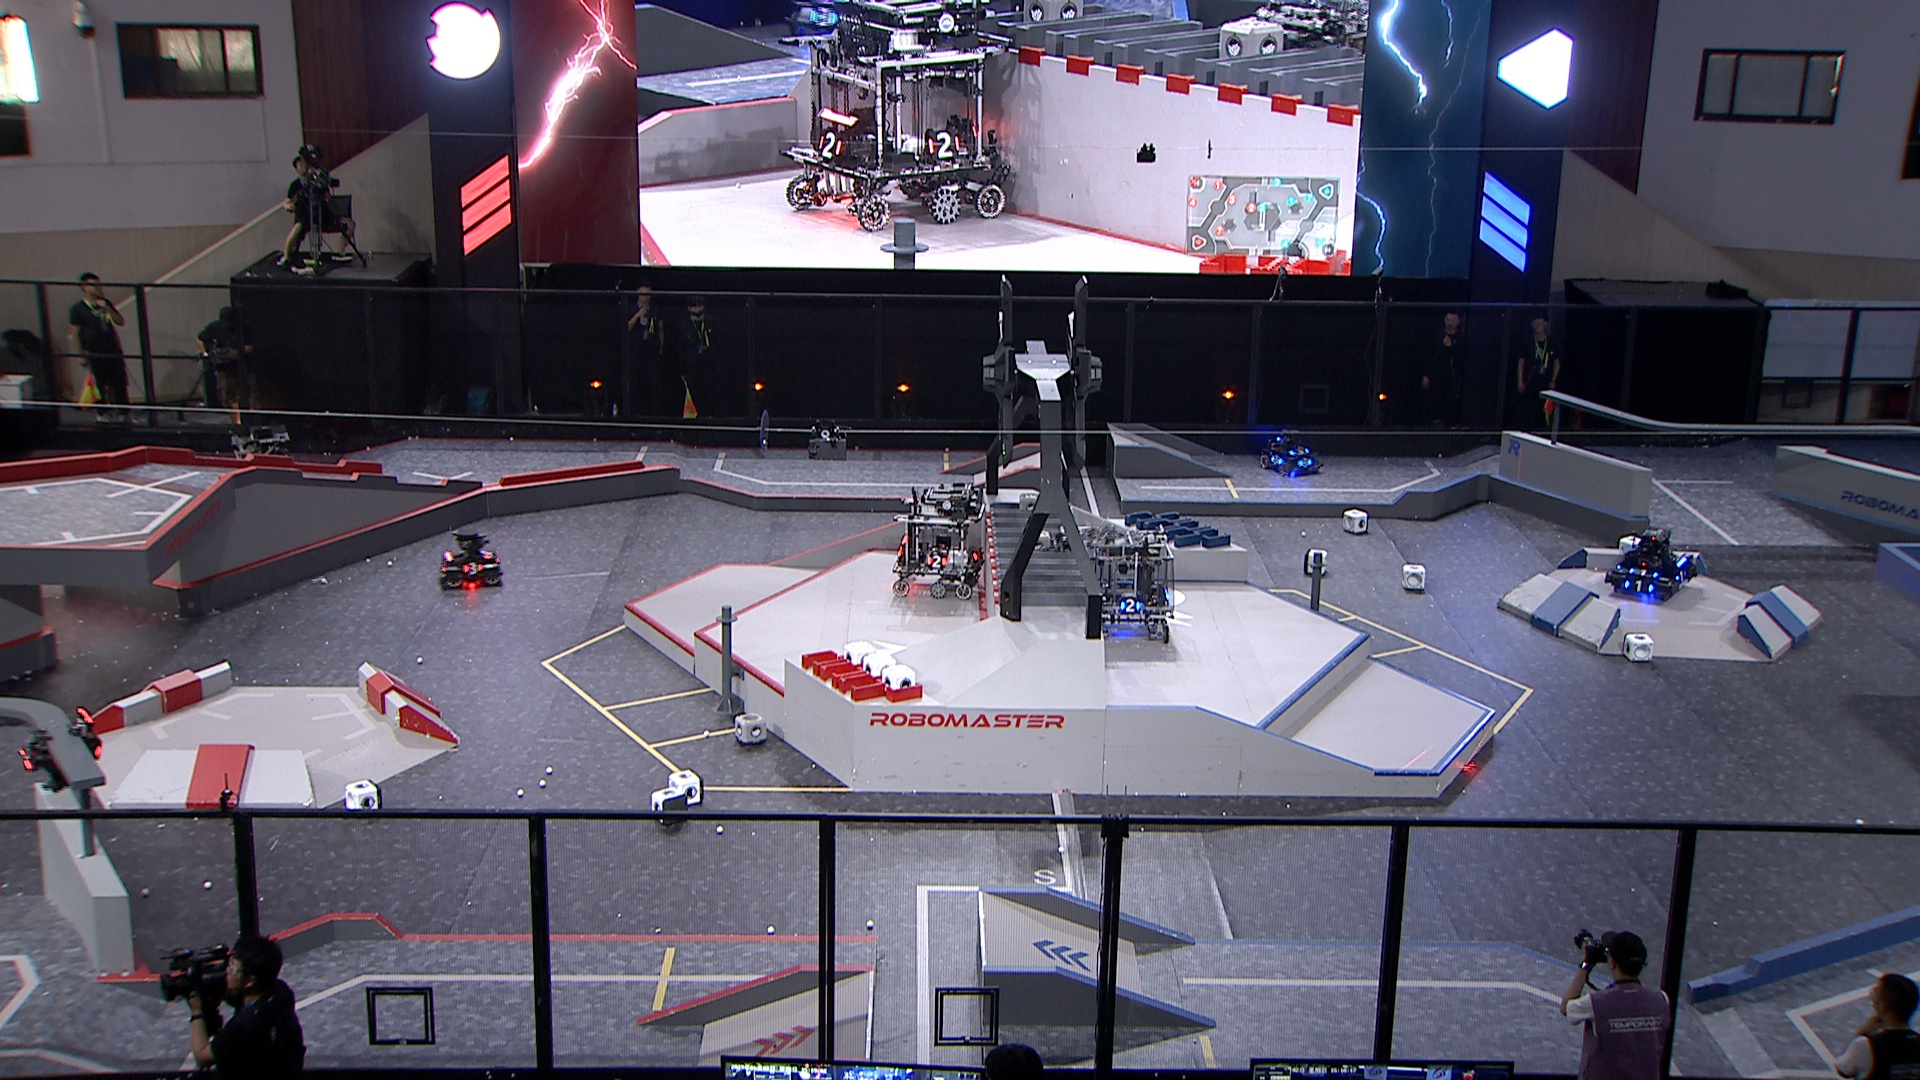armor: (1622, 578, 1656, 593), (1626, 564, 1662, 579), (1117, 597, 1145, 616), (17, 745, 34, 771), (926, 553, 951, 570), (462, 562, 485, 575), (1673, 566, 1688, 583), (1287, 447, 1309, 458), (479, 547, 495, 559), (1296, 456, 1313, 467), (1269, 454, 1283, 465)
car: (1072, 518, 1178, 640), (891, 481, 989, 603), (1602, 524, 1698, 599), (223, 419, 305, 498), (436, 527, 506, 589), (1255, 425, 1323, 479)
ignore: (785, 0, 1007, 233), (782, 1, 855, 40)
watcher: (16, 705, 105, 794)
